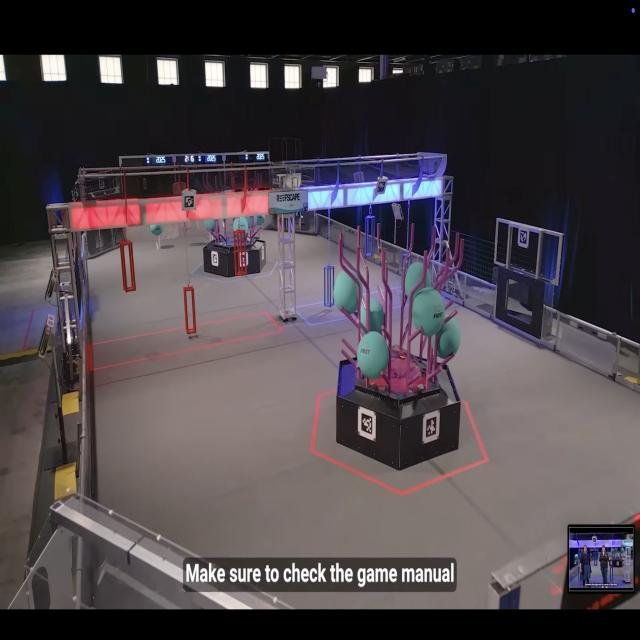algae: (356, 328, 393, 381), (412, 285, 445, 336), (336, 263, 365, 315), (436, 316, 464, 362), (404, 261, 436, 300), (358, 299, 386, 336), (233, 216, 250, 239), (204, 218, 222, 232), (150, 220, 164, 236), (254, 212, 266, 227), (246, 214, 257, 229)
coral: (154, 234, 162, 250), (256, 223, 263, 240), (207, 227, 214, 243)
